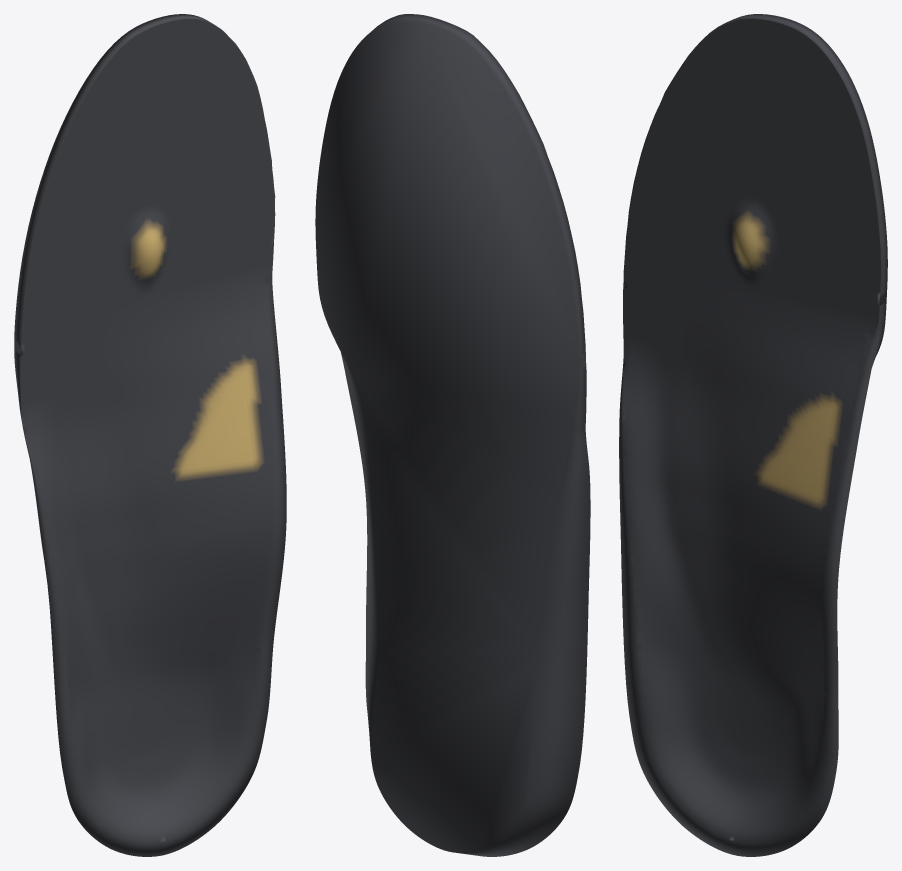
Rendered from SG-NEUROMA-PAD_LEFT.glb.
3 views of the same model, side by side, from view 1: azimuth 30°, elevation 25°; view 2: azimuth 150°, elevation 25°; view 3: azimuth 330°, elevation 25° (orthographic). The views are drawn at different scales.
Visible parts, largest first — view 1: neuroma_pad.stl; view 2: neuroma_pad.stl; view 3: neuroma_pad.stl.
Part boxes in pixels (x1=…): neuroma_pad.stl: x1=14, y1=14, x2=286, y2=856; neuroma_pad.stl: x1=315, y1=14, x2=590, y2=856; neuroma_pad.stl: x1=619, y1=14, x2=887, y2=856.
Size of the model in its own units: 99.56 by 304 by 22.83.
